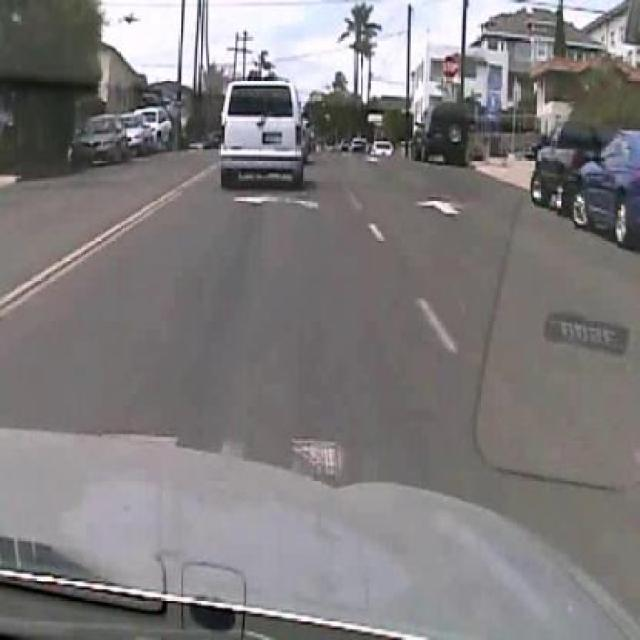stop: (439, 53, 464, 84)
